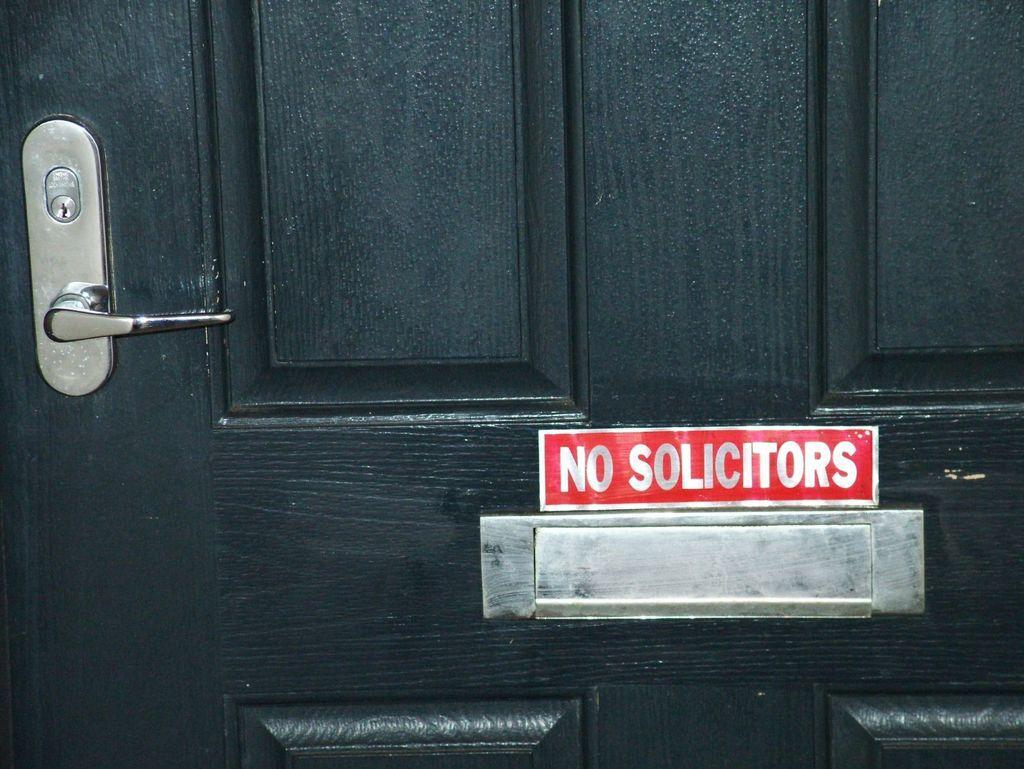handle: (25, 113, 242, 396)
